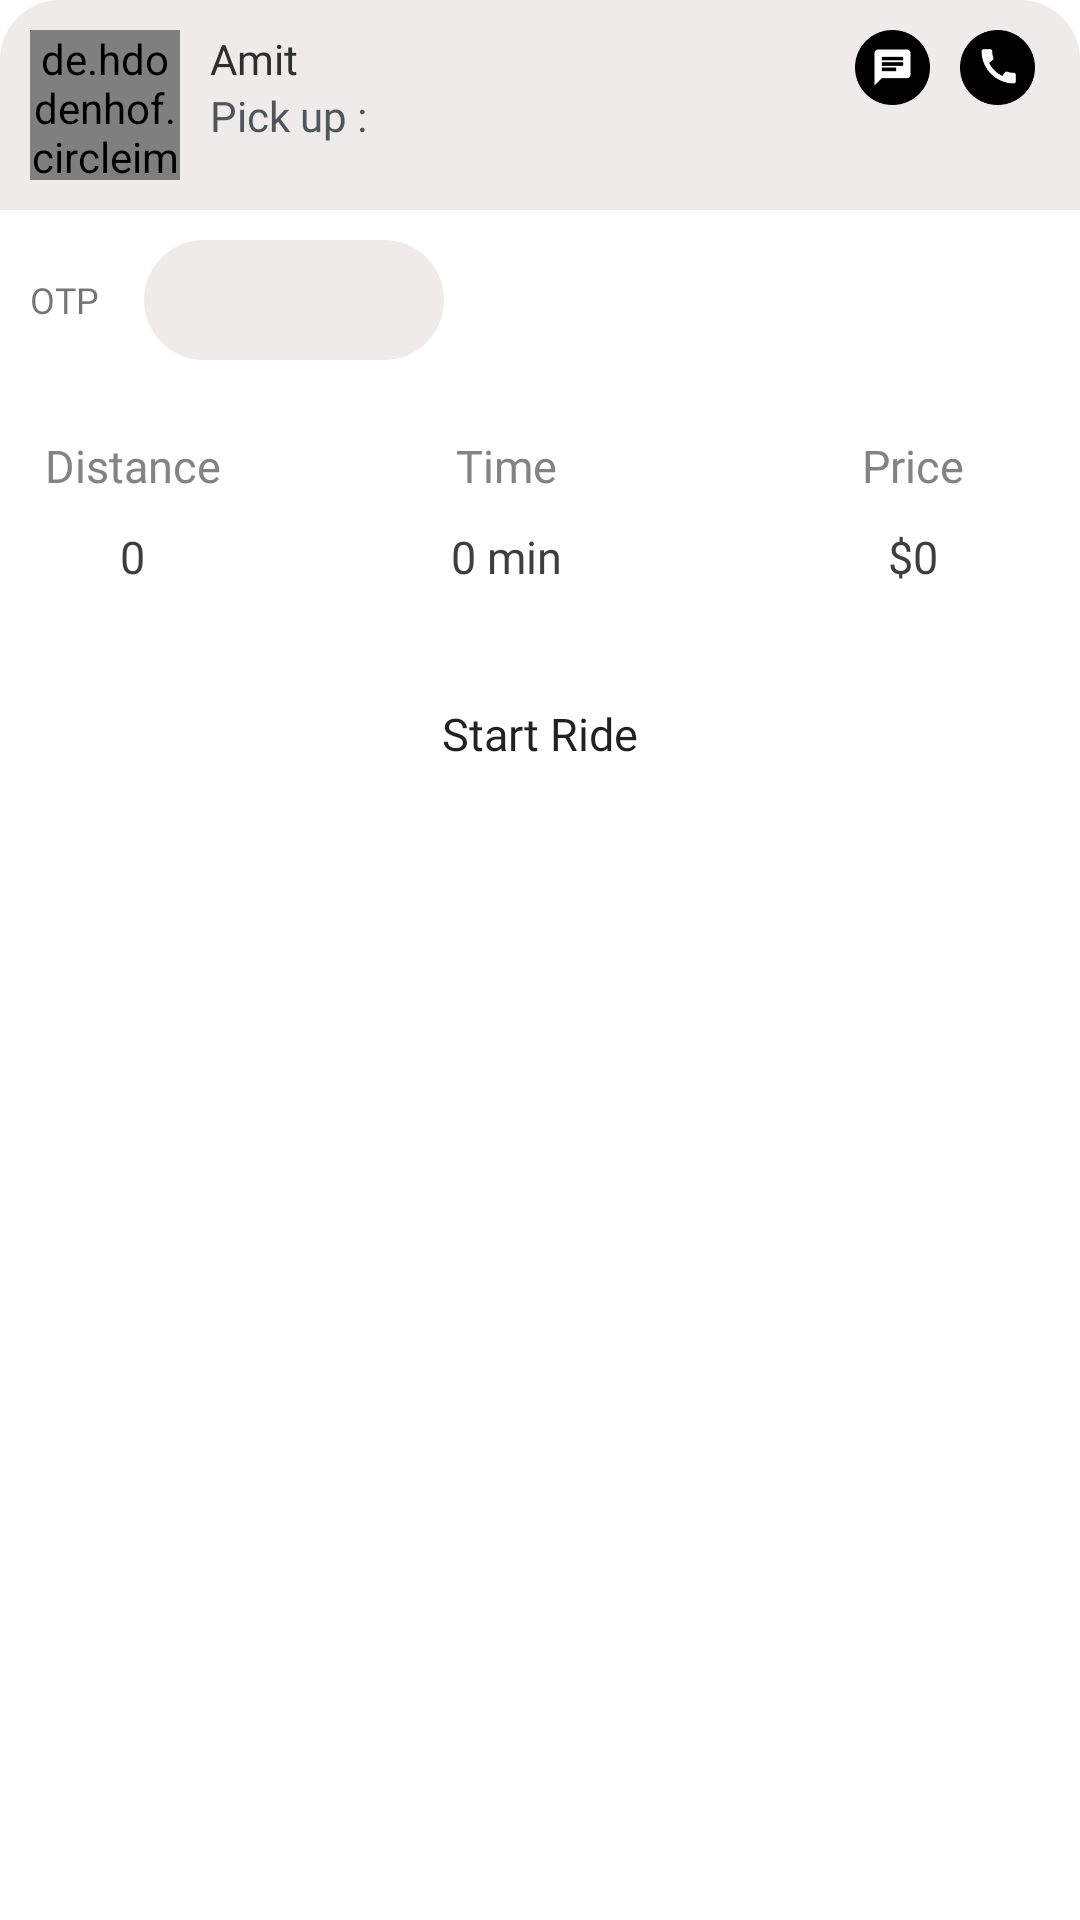

Icon click points for this 1080px x 1920px phone screenshot, format [x,y]:
call ride: [997,67]
msg ride: [892,67]
